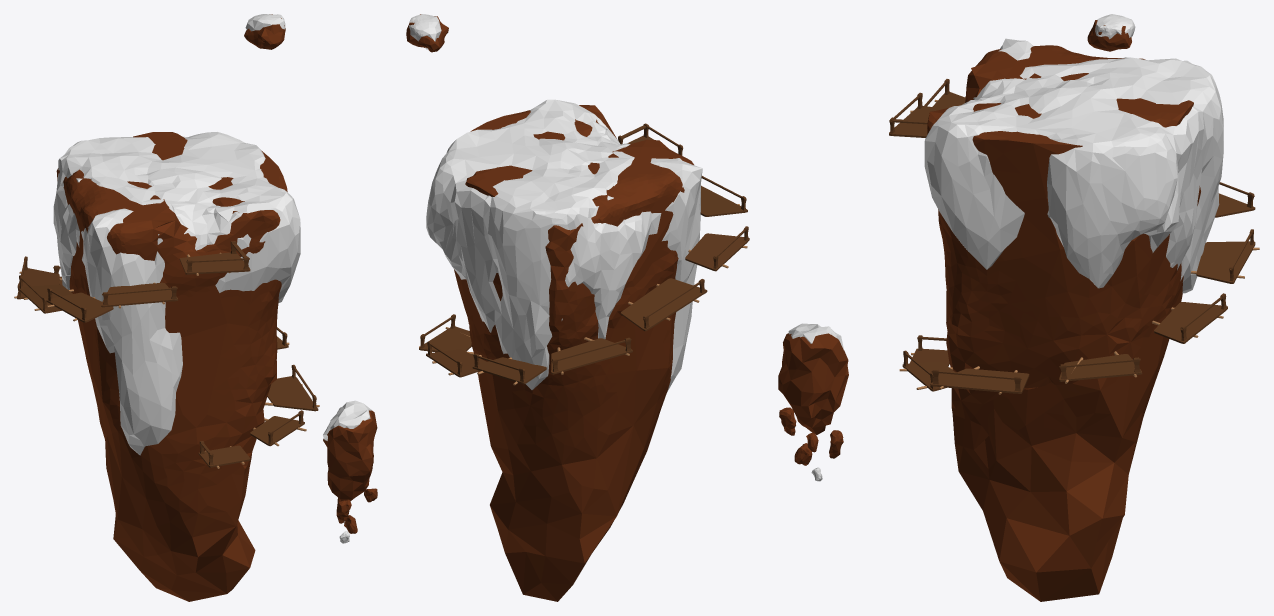
The model's file is Tre_Isola6.fbx.
3 views of the same model, side by side, from view 1: azimuth 30°, elevation 25°; view 2: azimuth 150°, elevation 25°; view 3: azimuth 270°, elevation 25° (orthographic). The views are drawn at different scales.
Visible parts, largest first — view 1: Plane.008, Plane.019, Sphere.042, Plane.024, Plane.025, Plane.027, Plane.023, Plane.005, Sphere.043, Plane.014, Plane.004, Sphere.035 (+2 smaller); view 2: Plane.008, Plane.019, Plane.014, Plane.013, Plane.023, Plane.011, Plane.006, Plane.024, Plane.010, Sphere.034, Sphere.035; view 3: Plane.008, Plane.019, Sphere.042, Plane.011, Plane.010, Plane.027, Plane.006, Plane.025, Plane.005, Sphere.035, Sphere.034, Plane.013 (+1 smaller).
Part boxes in pixels (<box>): Plane.008: <box>56,132,287,601</box>; Plane.019: <box>53,132,300,455</box>; Sphere.042: <box>323,410,377,501</box>; Plane.024: <box>101,282,178,307</box>; Plane.025: <box>179,241,250,274</box>; Plane.027: <box>267,364,318,411</box>; Plane.023: <box>46,287,113,322</box>; Plane.005: <box>250,410,304,446</box>; Sphere.043: <box>323,400,371,440</box>; Plane.014: <box>18,275,72,313</box>; Plane.004: <box>198,441,250,467</box>; Sphere.035: <box>244,14,285,49</box>; Plane.008: <box>454,105,693,601</box>; Plane.019: <box>426,99,702,392</box>; Plane.014: <box>621,278,707,331</box>; Plane.013: <box>551,337,632,374</box>; Plane.023: <box>685,226,749,271</box>; Plane.011: <box>472,353,546,384</box>; Plane.006: <box>419,314,471,352</box>; Plane.024: <box>700,176,747,216</box>; Plane.010: <box>426,341,486,377</box>; Sphere.034: <box>409,14,441,49</box>; Sphere.035: <box>406,14,448,52</box>; Plane.008: <box>927,45,1200,601</box>; Plane.019: <box>924,38,1223,293</box>; Sphere.042: <box>778,333,848,434</box>; Plane.011: <box>1196,229,1255,283</box>; Plane.010: <box>1154,293,1227,343</box>; Plane.027: <box>930,368,1029,393</box>; Plane.006: <box>1059,354,1142,381</box>; Plane.025: <box>889,92,944,137</box>; Plane.005: <box>902,350,954,391</box>; Sphere.035: <box>1087,20,1131,51</box>; Sphere.034: <box>1095,14,1135,39</box>; Plane.013: <box>1215,182,1255,217</box>.
Bounding box in the file's own units: 144 × 277 × 191.
